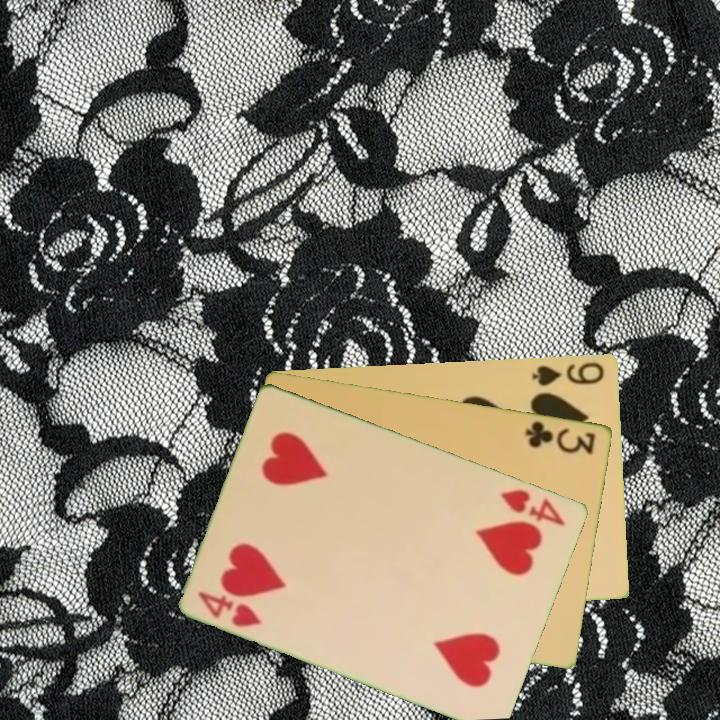3c: (522, 417, 599, 457)
4h: (497, 485, 569, 529), (194, 587, 264, 630)
9s: (529, 358, 608, 389)
